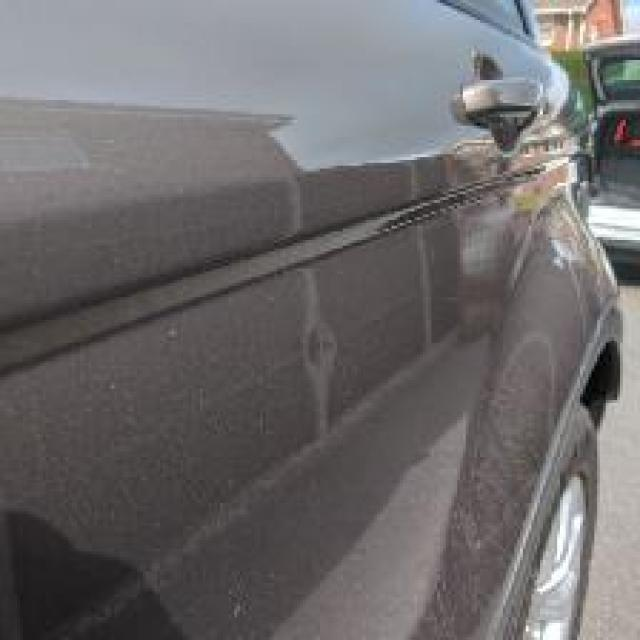damaged: (383, 140, 594, 289)
